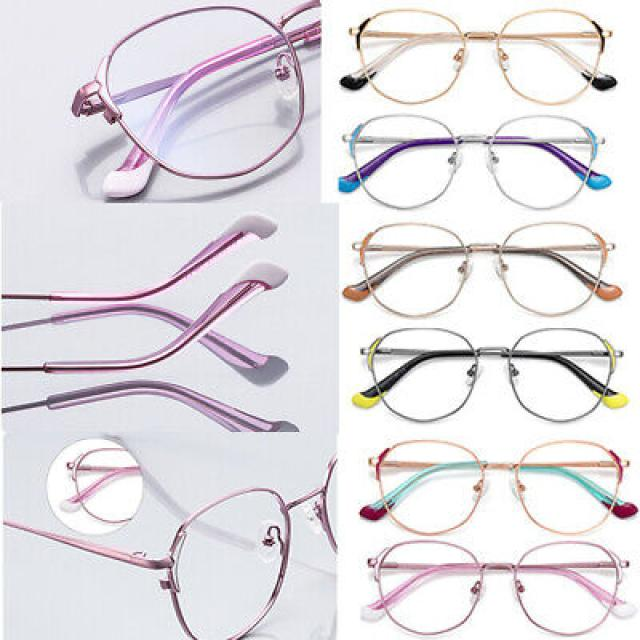glasses: (309, 0, 630, 121), (338, 110, 628, 218)
